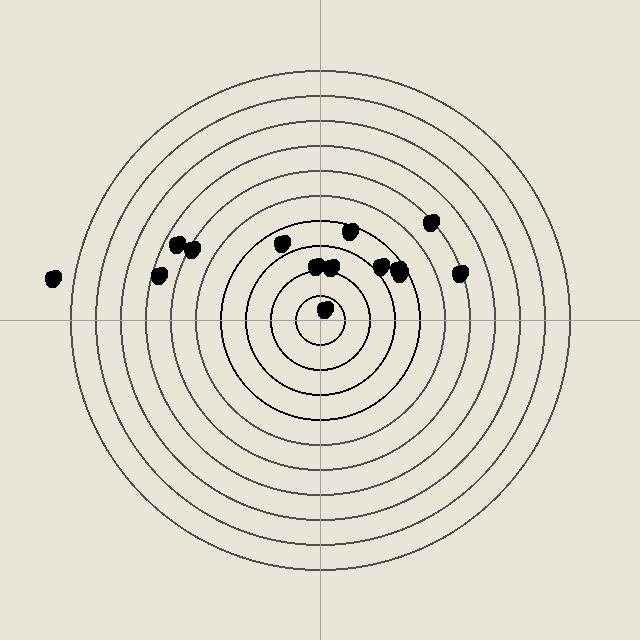horizontal_scatter: (305, 256, 325, 276), (320, 257, 340, 277), (148, 265, 168, 285), (271, 233, 291, 253), (449, 263, 469, 283), (370, 256, 390, 276), (420, 212, 440, 232), (339, 221, 359, 241), (389, 263, 409, 283), (42, 268, 62, 288), (387, 259, 407, 279), (166, 234, 186, 254), (314, 299, 334, 319), (181, 239, 201, 259)
